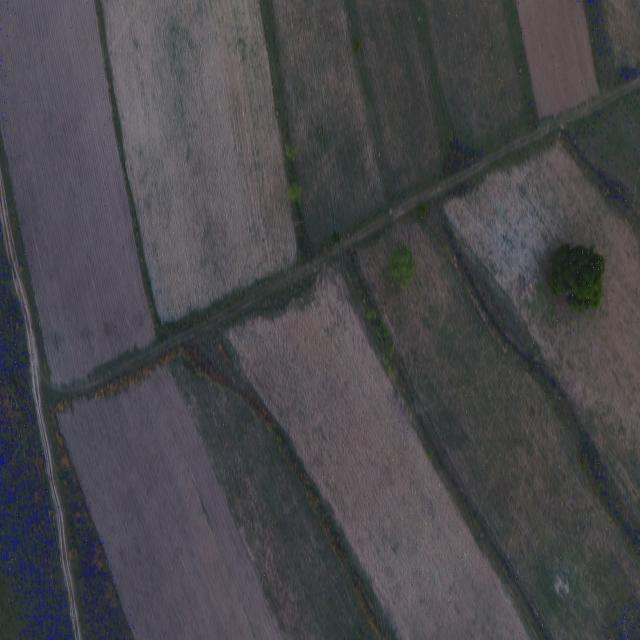boundaries: (94, 10, 326, 355), (358, 318, 527, 601)
